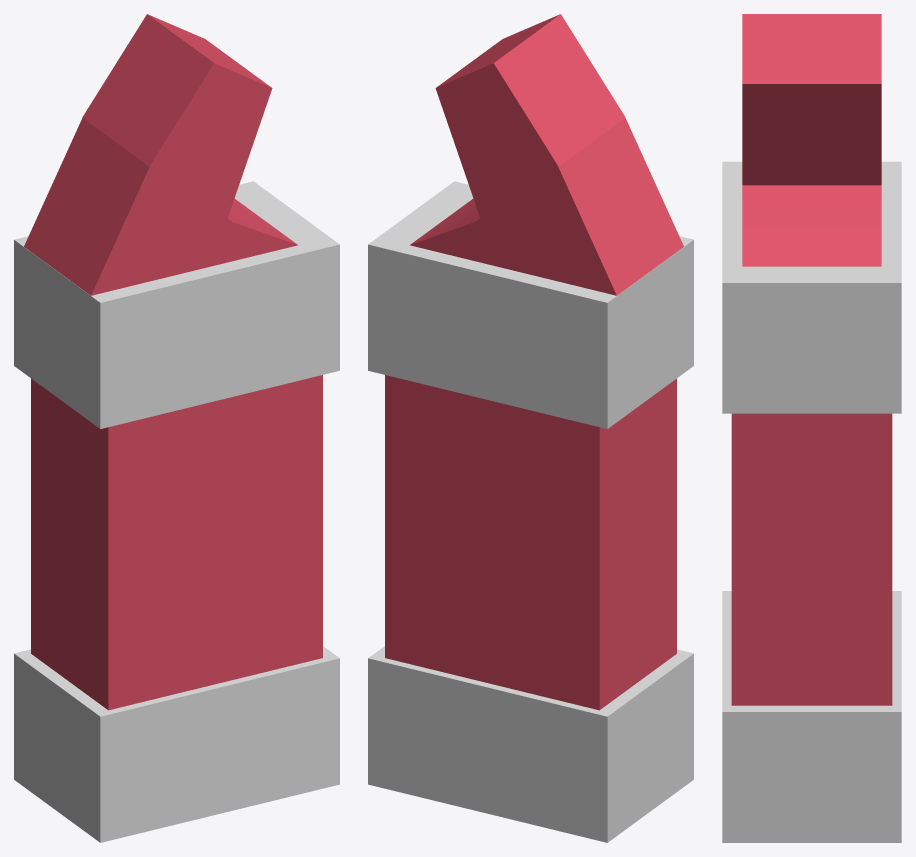
Rendered from 2shampoo.fbx.
3 renders of one model, left to right at view 1: azimuth 30°, elevation 25°; view 2: azimuth 150°, elevation 25°; view 3: azimuth 270°, elevation 25°, orthographic. The views are drawn at different scales.
Parts seen in each view (by area): view 1: 2shampoo; view 2: 2shampoo; view 3: 2shampoo.
Boxes of the visible parts, box(x1,y1,x2,y2) form: 2shampoo: box(14, 14, 339, 842); 2shampoo: box(368, 14, 693, 842); 2shampoo: box(722, 14, 901, 842).
Bounding box in the file's own units: 4.98 × 14.77 × 3.12.
